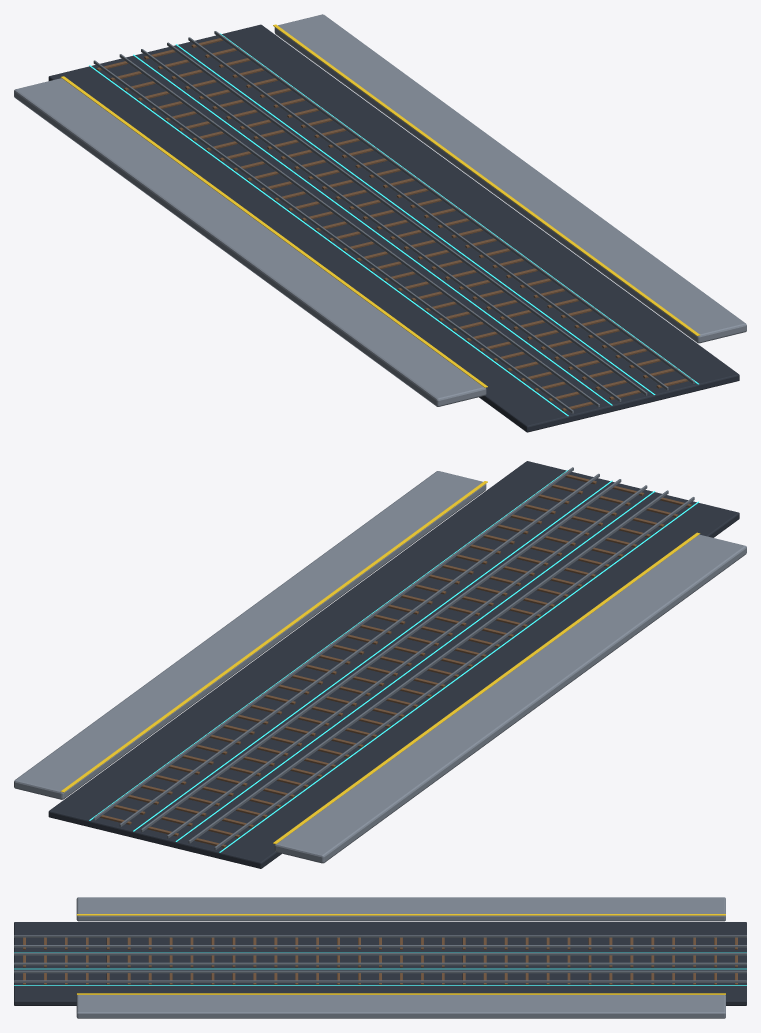
Rendered from 01_TRACK_MODULAR.fbx.
3 renders of one model, top to bottom at view 1: azimuth 30°, elevation 25°; view 2: azimuth 150°, elevation 25°; view 3: azimuth 270°, elevation 25°, orthographic. The views are drawn at different scales.
Parts seen in each view (by area): view 1: Track_Ground_30m, Platform_Left, Platform_Right, Rail_30m.004, Rail_30m, Rail_30m.002, Rail_30m.001, Rail_30m.005, Rail_30m.003, Platform_Safety_Line.001, Platform_Safety_Line, Lane_Line.001 (+3 smaller); view 2: Track_Ground_30m, Platform_Left, Platform_Right, Rail_30m.005, Rail_30m.001, Rail_30m.002, Rail_30m.003, Rail_30m, Rail_30m.004, Platform_Safety_Line.001, Platform_Safety_Line, Lane_Line.001 (+3 smaller); view 3: Track_Ground_30m, Platform_Right, Platform_Left, Rail_30m.003, Rail_30m.004, Rail_30m.002, Rail_30m.005, Rail_30m, Rail_30m.001, Lane_Line.002, Platform_Safety_Line, Platform_Safety_Line.001 (+2 smaller).
Boxes of the visible parts, x1,y1,x2,y2 form: Track_Ground_30m: [48, 24, 739, 432]; Platform_Left: [14, 78, 486, 406]; Platform_Right: [274, 14, 746, 343]; Rail_30m.004: [188, 37, 668, 390]; Rail_30m: [93, 60, 573, 413]; Rail_30m.002: [141, 49, 621, 402]; Rail_30m.001: [119, 54, 599, 407]; Rail_30m.005: [214, 31, 694, 384]; Rail_30m.003: [167, 42, 647, 395]; Platform_Safety_Line.001: [273, 24, 699, 335]; Platform_Safety_Line: [60, 76, 487, 387]; Lane_Line.001: [133, 54, 612, 405]; Track_Ground_30m: [48, 461, 739, 868]; Platform_Left: [274, 534, 746, 863]; Platform_Right: [14, 471, 486, 799]; Rail_30m.005: [93, 467, 573, 820]; Rail_30m.001: [188, 490, 668, 843]; Rail_30m.002: [167, 485, 647, 838]; Rail_30m.003: [141, 479, 621, 832]; Rail_30m: [214, 497, 694, 850]; Rail_30m.004: [119, 473, 599, 826]; Platform_Safety_Line.001: [60, 481, 487, 792]; Platform_Safety_Line: [273, 532, 700, 844]; Lane_Line.001: [175, 491, 655, 841]; Track_Ground_30m: [14, 922, 746, 1005]; Platform_Right: [76, 995, 725, 1018]; Platform_Left: [76, 897, 725, 921]; Rail_30m.003: [14, 962, 746, 965]; Rail_30m.004: [14, 970, 746, 973]; Rail_30m.002: [14, 953, 746, 955]; Rail_30m.005: [14, 980, 746, 982]; Rail_30m: [14, 935, 746, 937]; Rail_30m.001: [14, 945, 746, 947]; Lane_Line.002: [14, 968, 746, 969]; Platform_Safety_Line: [76, 914, 725, 915]; Platform_Safety_Line.001: [76, 993, 725, 994].
Bounding box in the file's own units: 26.2 × 1.3 × 70.
